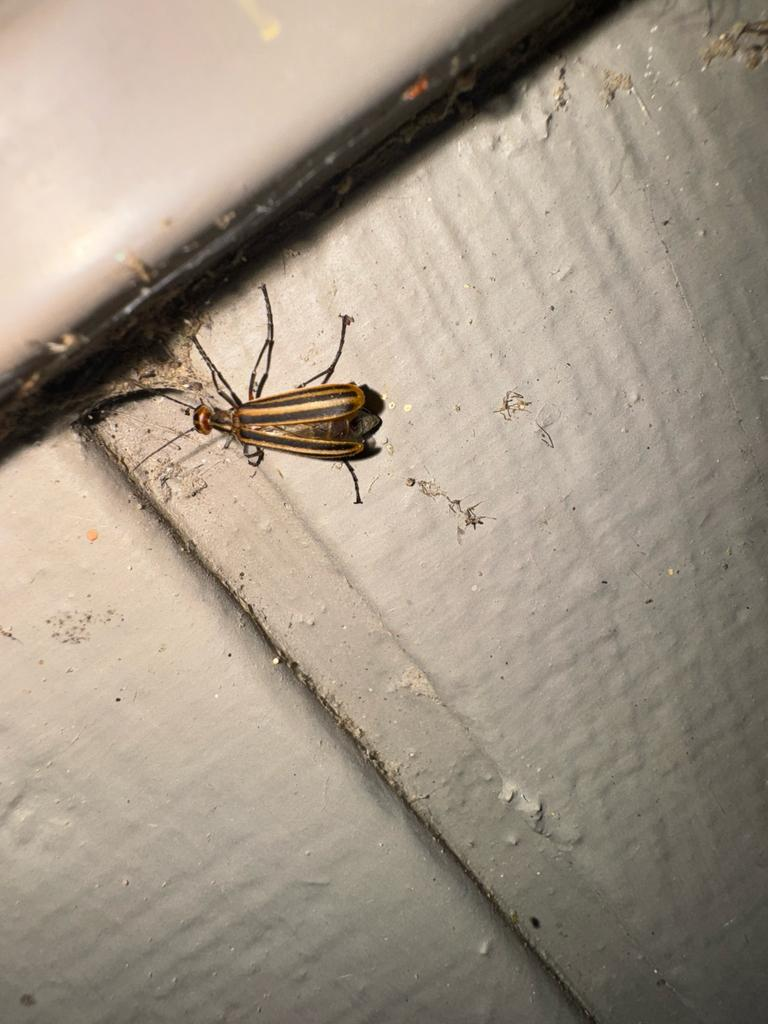blister_beetle: (120, 239, 488, 588)
